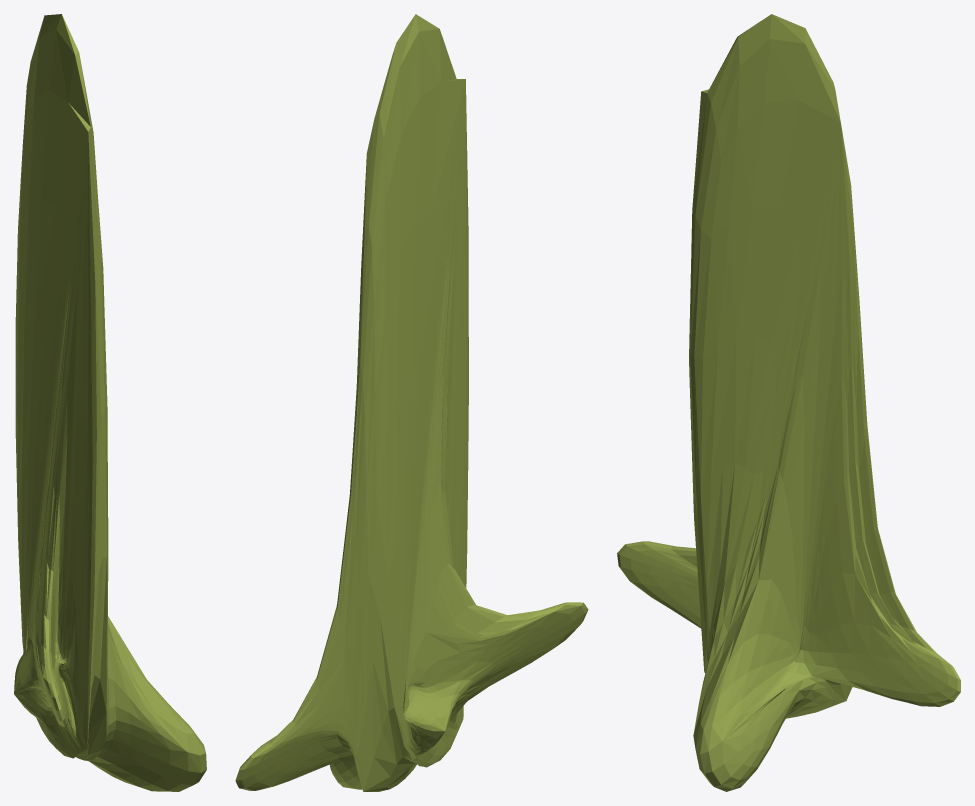
The picture shows the model from 3 angles, left to right: view 1: azimuth 30°, elevation 25°; view 2: azimuth 150°, elevation 25°; view 3: azimuth 270°, elevation 25°; orthographic projection. The views are drawn at different scales.
Parts seen in each view (by area): view 1: 275_Cube.1126; view 2: 275_Cube.1126; view 3: 275_Cube.1126.
Boxes of the visible parts, left/top/right/bottom form: 275_Cube.1126: left=14, top=14, right=206, bottom=791; 275_Cube.1126: left=235, top=14, right=588, bottom=791; 275_Cube.1126: left=617, top=14, right=960, bottom=791.
Size of the model in its own units: 3.14 by 11.89 by 5.04.
